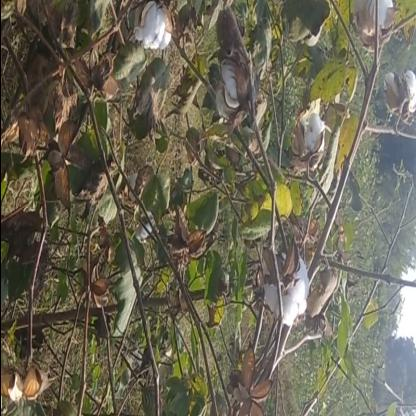cotton_ready: (260, 248, 318, 332), (121, 1, 183, 70), (194, 59, 256, 122), (288, 102, 324, 180)
